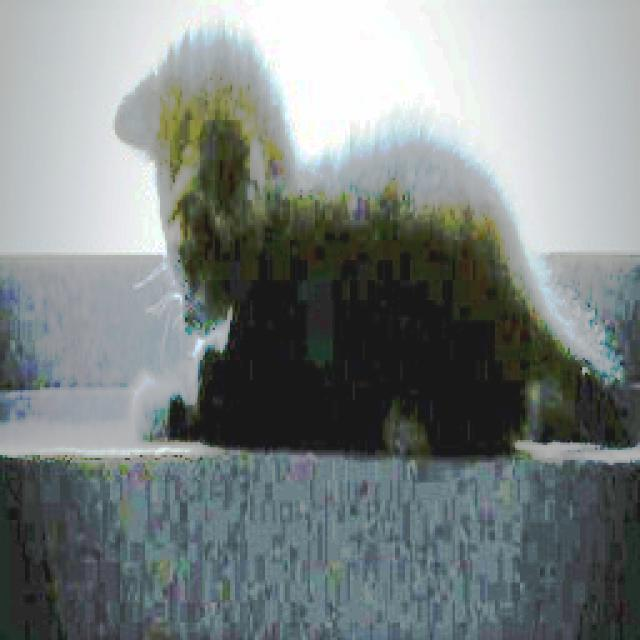cat: (73, 35, 638, 456)
